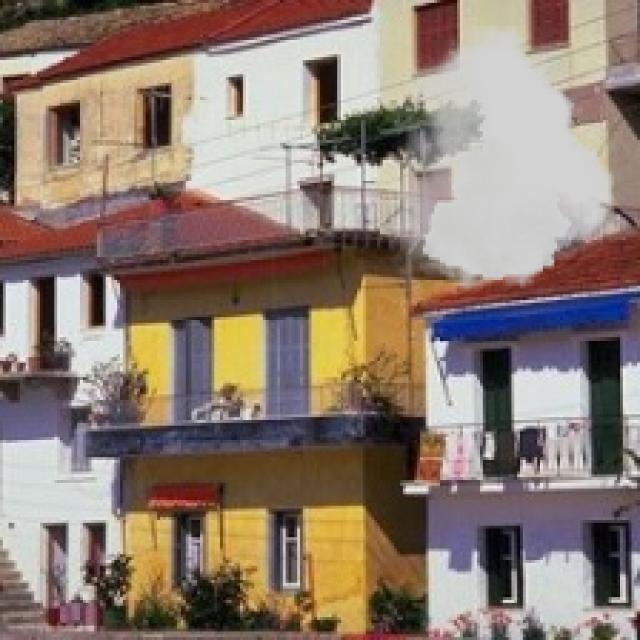smoke: (389, 26, 614, 291)
